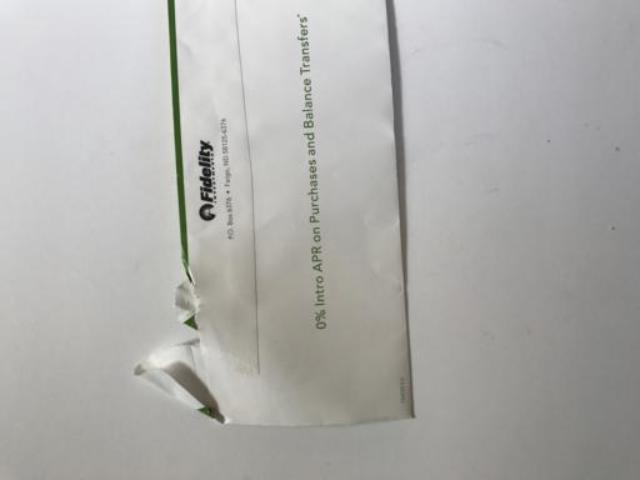cardboard paper: (140, 0, 410, 422)
